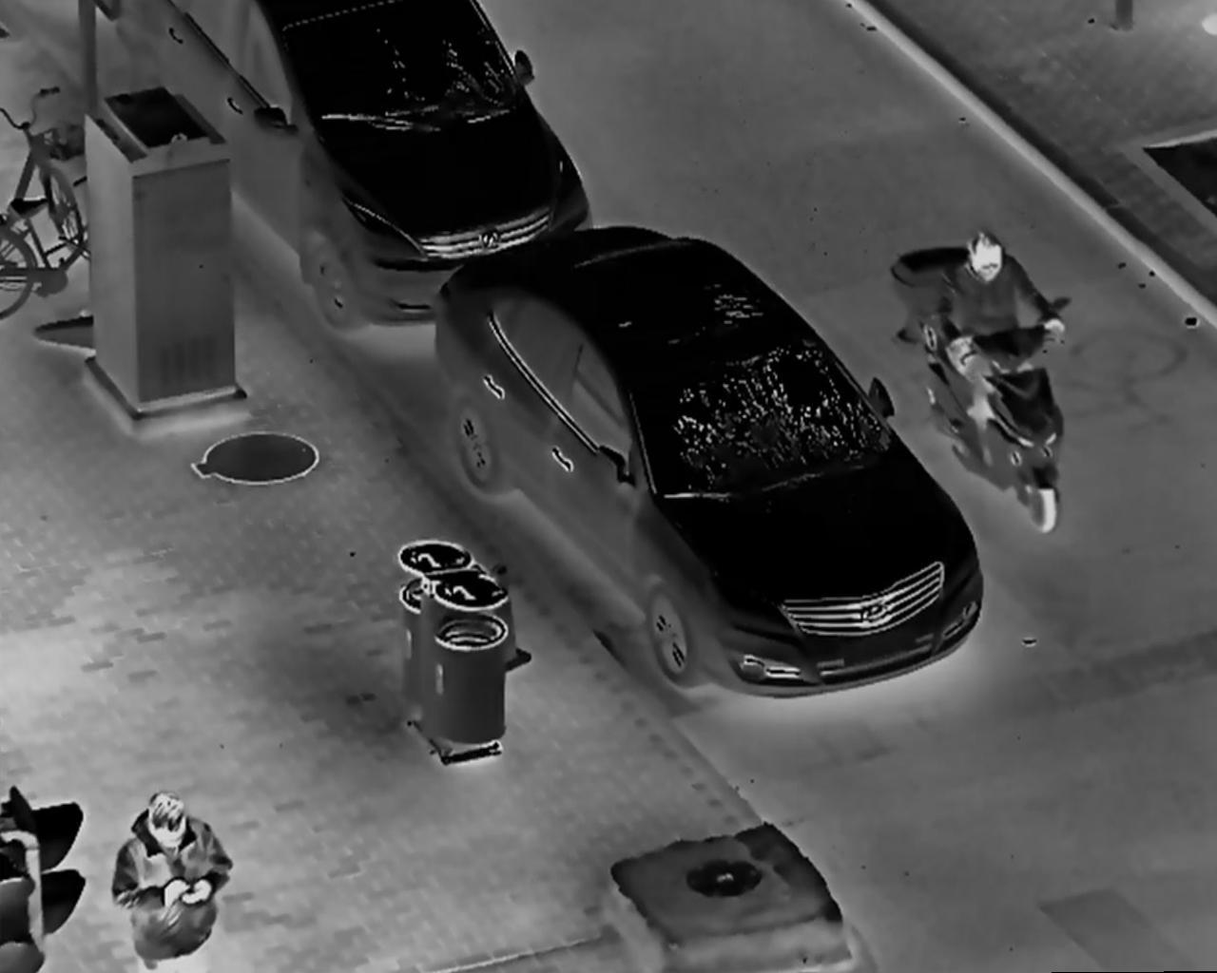person: (930, 224, 1076, 467), (110, 789, 229, 973)
